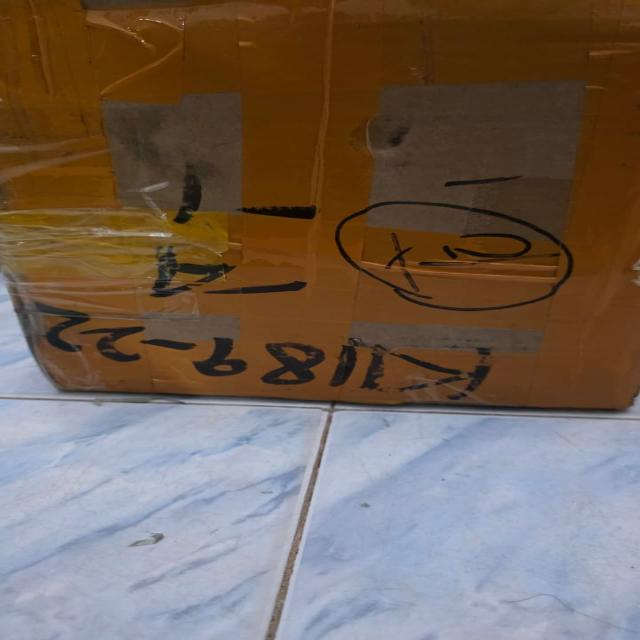carton_box: (0, 0, 640, 424)
package_damage: (333, 99, 475, 173)
